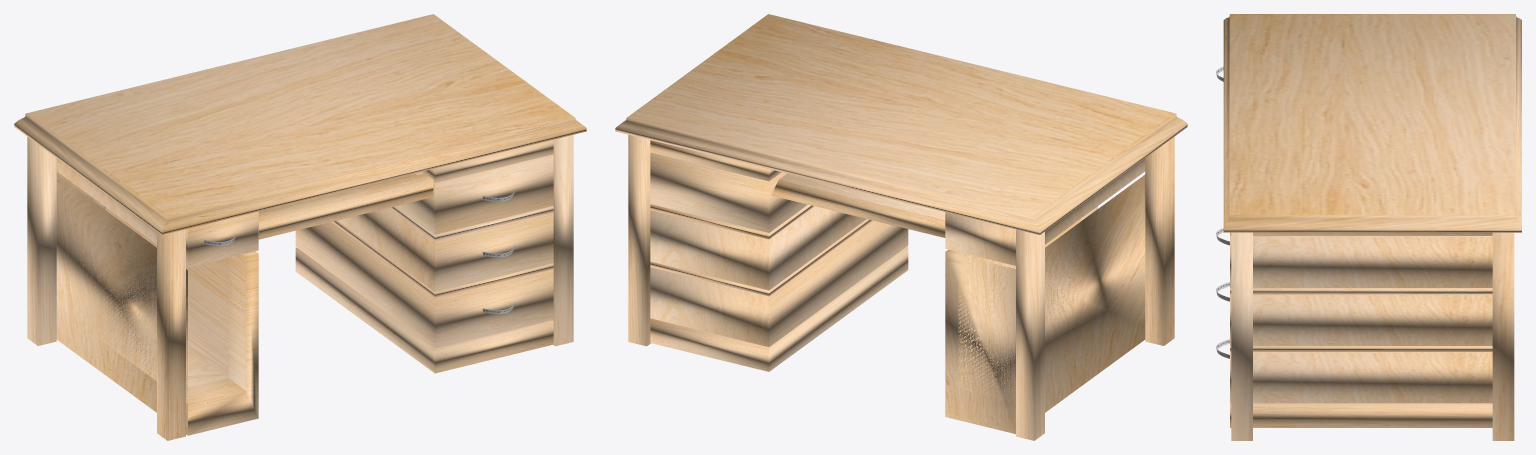
File: TableTexture.fbx
The picture shows the model from 3 angles, left to right: view 1: azimuth 30°, elevation 25°; view 2: azimuth 150°, elevation 25°; view 3: azimuth 270°, elevation 25°; orthographic projection.
Parts seen in each view (by area): view 1: Cube.1; view 2: Cube.1; view 3: Cube.1.
Boxes of the visible parts, x1,y1,x2,y2 form: Cube.1: (14, 14, 586, 440); Cube.1: (615, 14, 1187, 440); Cube.1: (1216, 14, 1521, 440).
Size of the model in its own units: 458 by 231 by 283.
1 material, 1 textured.
